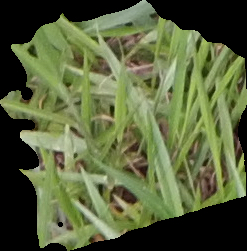grass: (1, 1, 246, 250)
